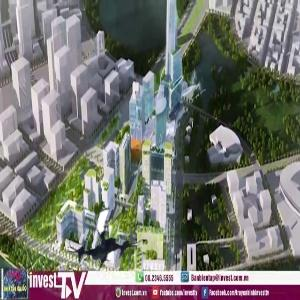drone: (69, 200, 147, 278)
